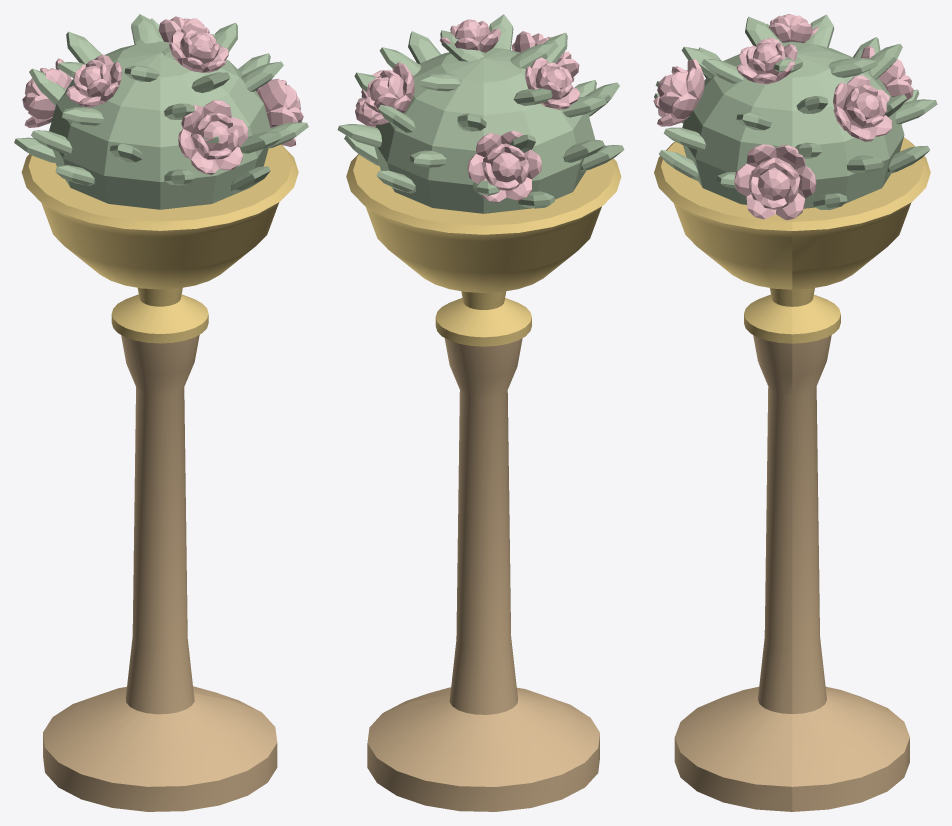
The model's file is wedding-and-chapel-kit-flower-stand-5bb4c73f__39393.glb.
3 renders of one model, left to right at view 1: azimuth 30°, elevation 25°; view 2: azimuth 150°, elevation 25°; view 3: azimuth 270°, elevation 25°, orthographic.
Parts seen in each view (by area): view 1: flower-stand; view 2: flower-stand; view 3: flower-stand.
Part boxes in pixels (left/top/right/bottom): flower-stand: left=14, top=14, right=308, bottom=811; flower-stand: left=337, top=14, right=624, bottom=811; flower-stand: left=653, top=14, right=937, bottom=811.
Size of the model in its own units: 0.4255 by 1.16 by 0.4108.
